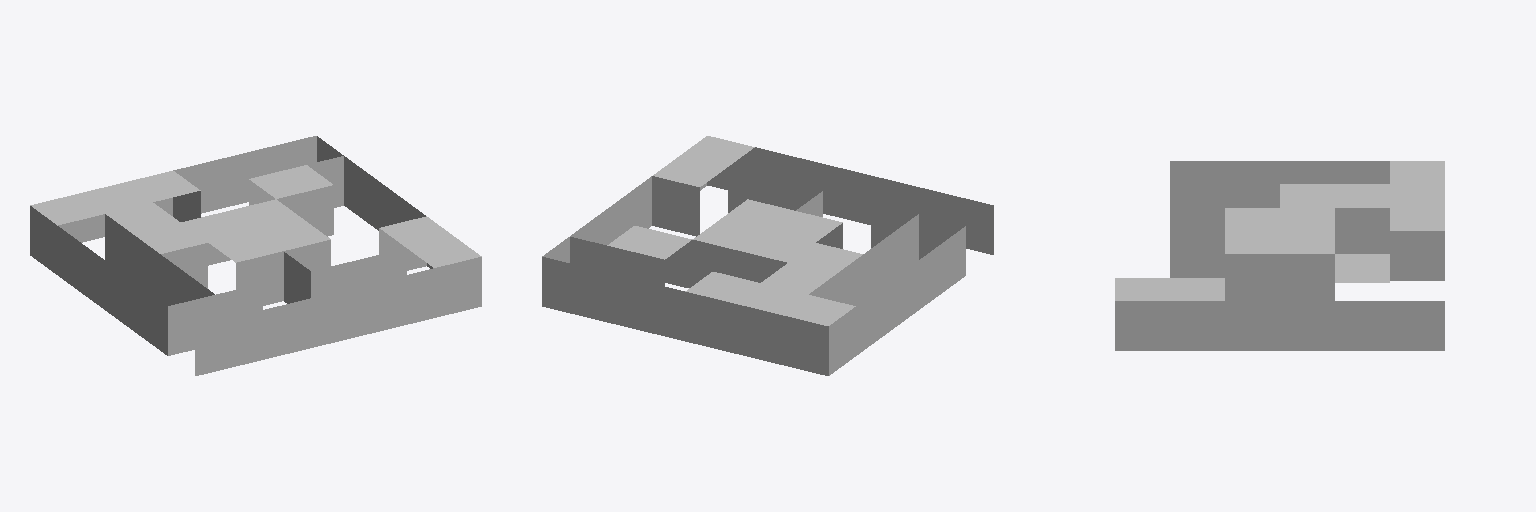
The model's file is room0.obj.
3 views of the same model, side by side, from view 1: azimuth 30°, elevation 25°; view 2: azimuth 150°, elevation 25°; view 3: azimuth 270°, elevation 25° (orthographic).
Parts seen in each view (by area): view 1: Plane; view 2: Plane; view 3: Plane.
Boxes of the visible parts, x1,y1,x2,y2 form: Plane: [30, 136, 481, 375]; Plane: [542, 136, 993, 375]; Plane: [1115, 161, 1444, 350].
Bounding box in the file's own units: 6 × 1 × 6.